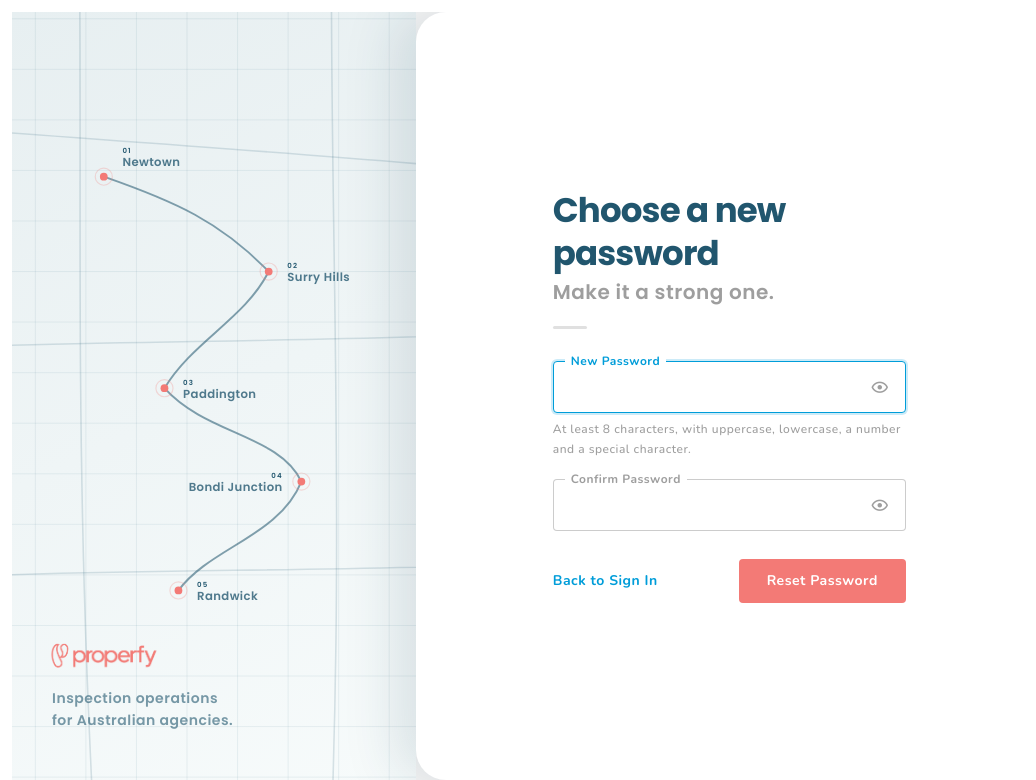
Test: ResetPasswordPage › shows expired-link message with request-new-link action on invalid token
In the password field labelled "New Password": (729, 387) [553,361,906,413], type "Str0ng!Pass"
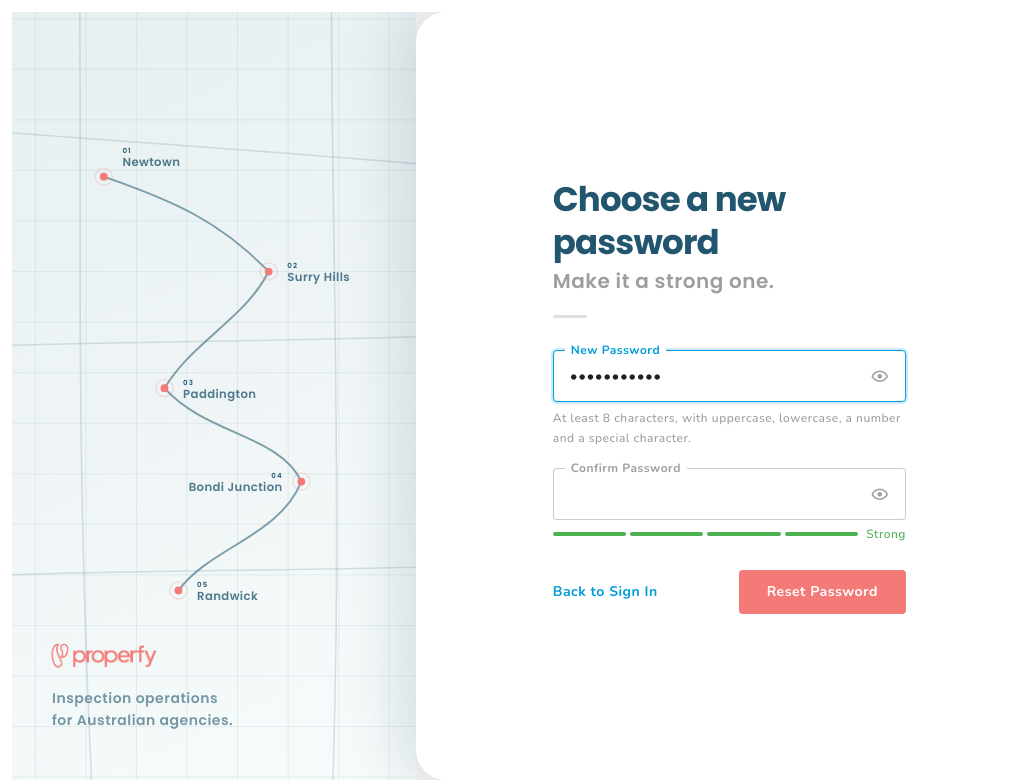
In the password field labelled "Confirm Password": (729, 494) [553,468,906,520], type "Str0ng!Pass"
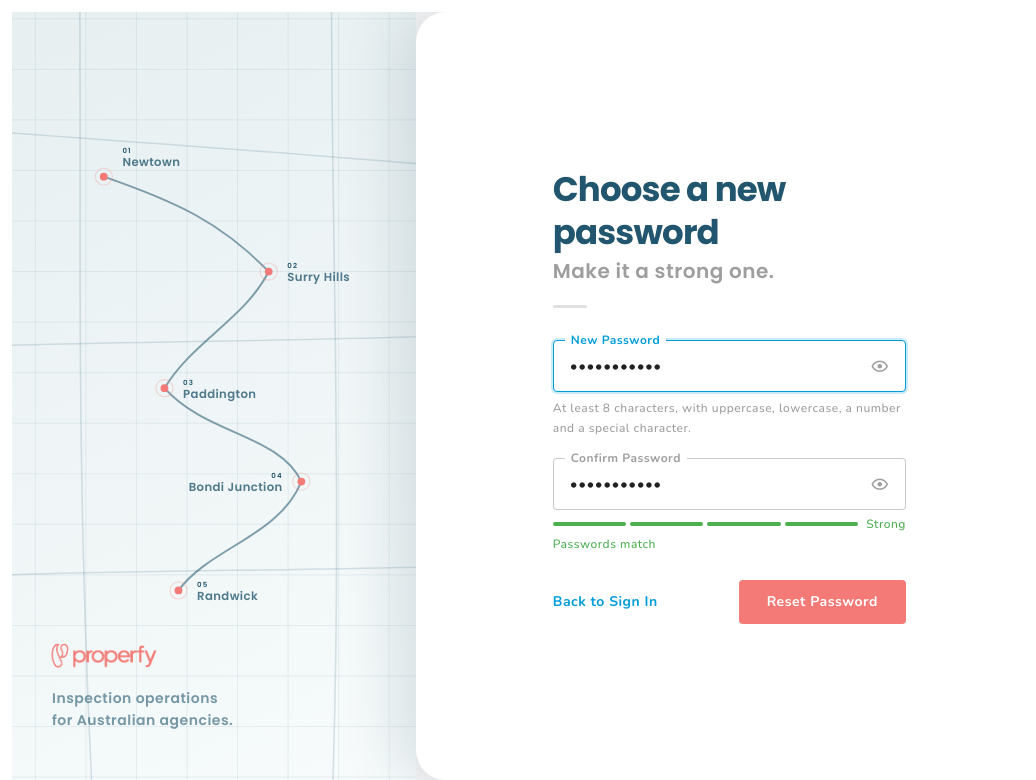
Click the button "Reset Password": (822, 602) [739,580,906,624]
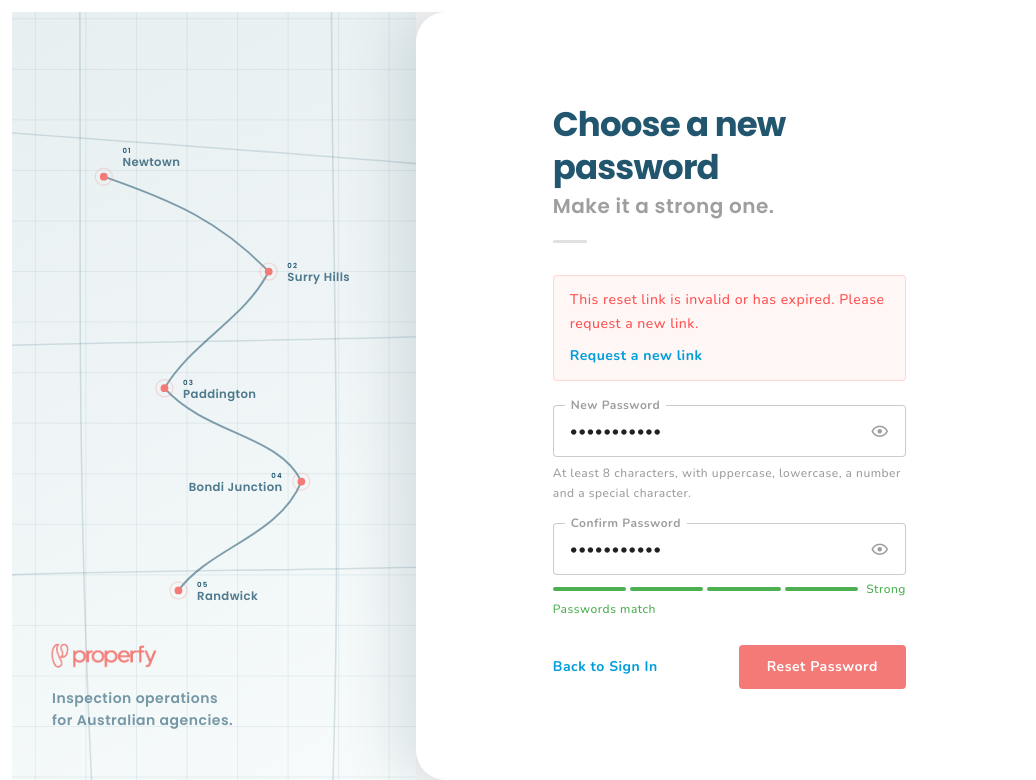
Expected: the message shows "invalid or has expired", [570,290,884,333]
Expected: the link "Request a new link" is shown, [570,346,702,365]
